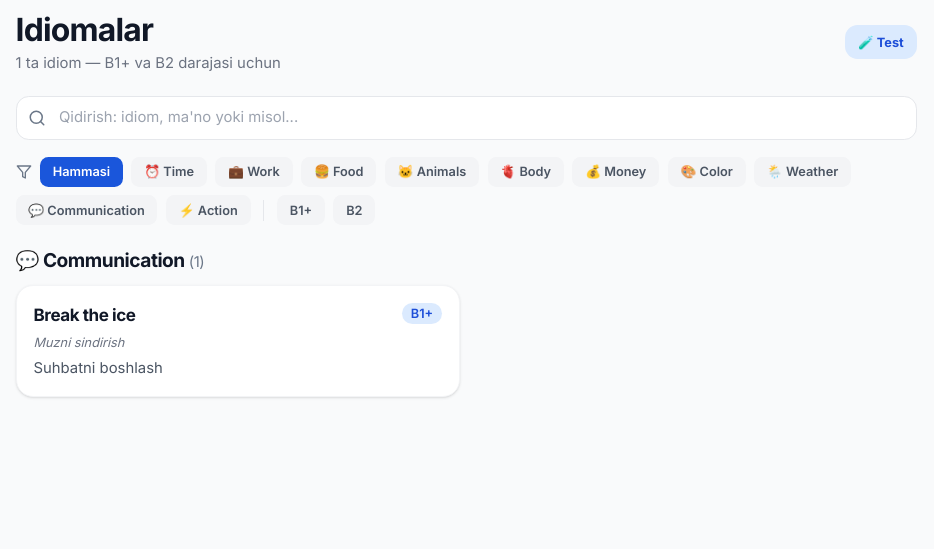
Scenario: Idioms › opens detail view when a card is clicked
Click the heading "Break the ice": x=84, y=315 top-left (34, 302), bottom-right (136, 328)
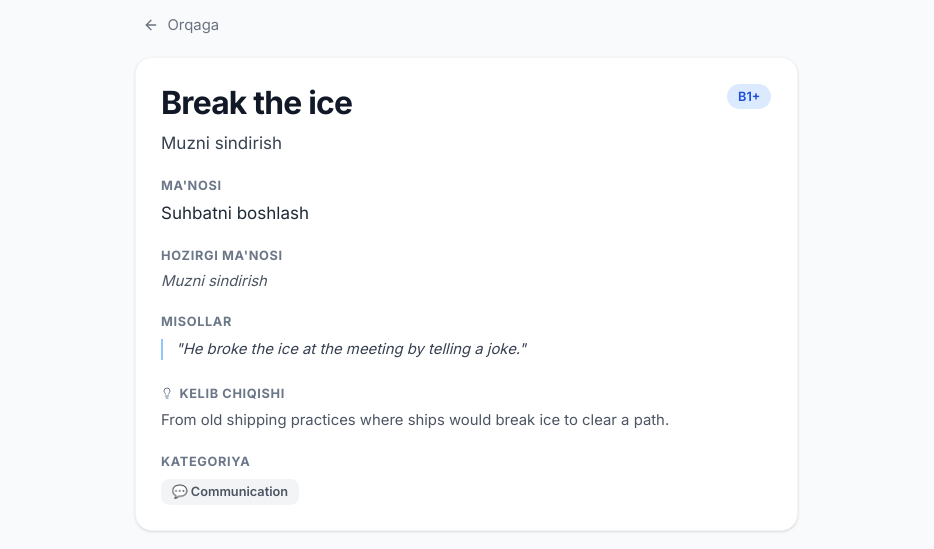
expect the heading "Ma'nosi" is shown: met, box top-left (161, 178), bottom-right (222, 193)
